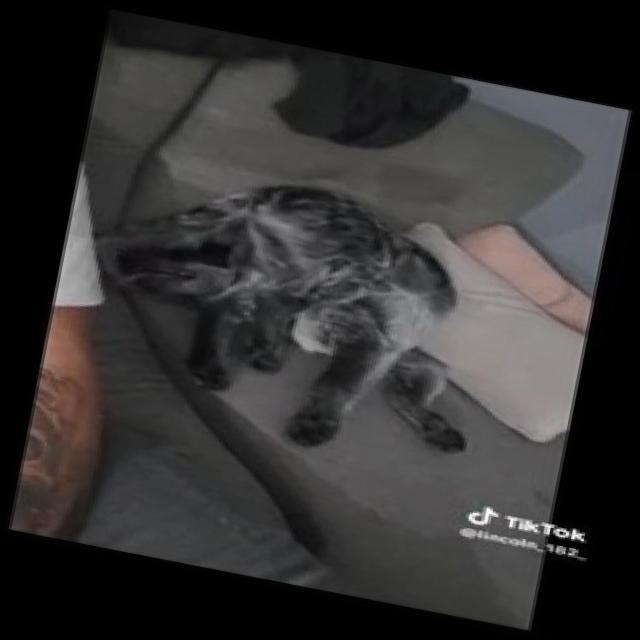dog: (84, 126, 518, 493)
